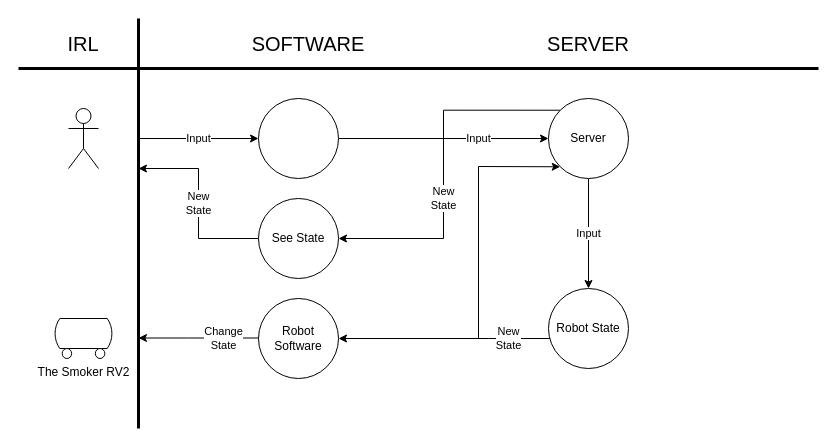
The diagram is 838 pixels wide and 448 high, and some of its shapes have lost their labels. The shapes that lost their labels are listed below. From the top down, each one's centre as x and y in pixels, then its label:
(83,138): User
(298,138): Take Input
